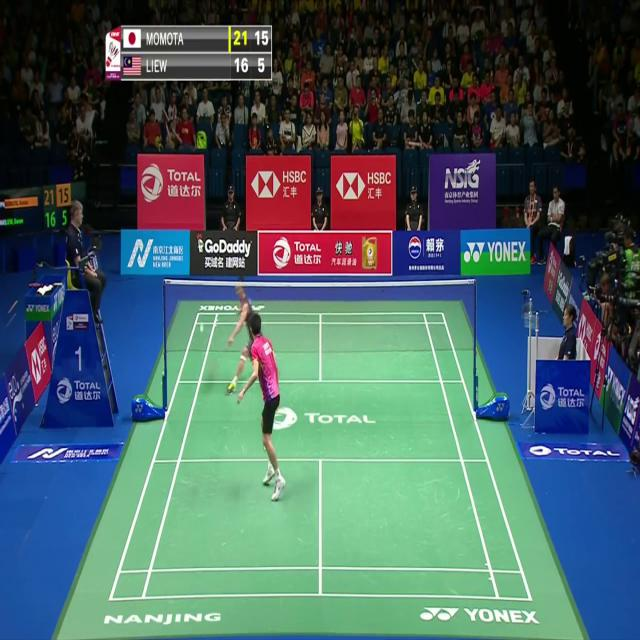Shuttlecock: (199, 323, 205, 335)
